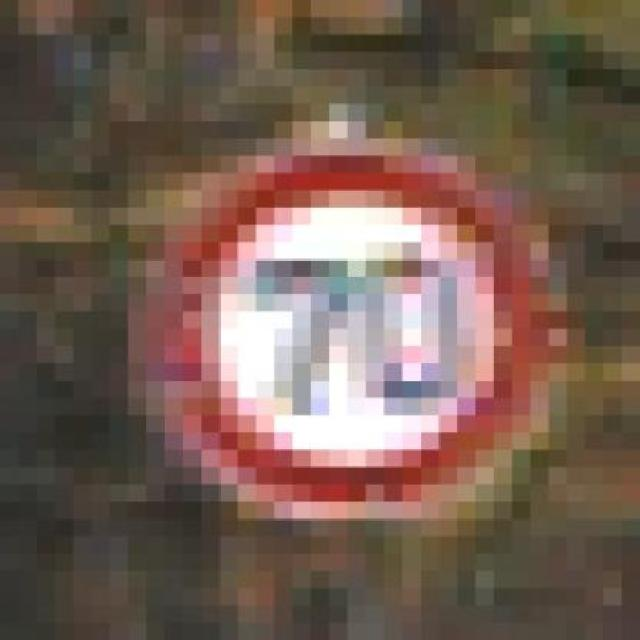forb_speed_over_70: (165, 159, 537, 501)
